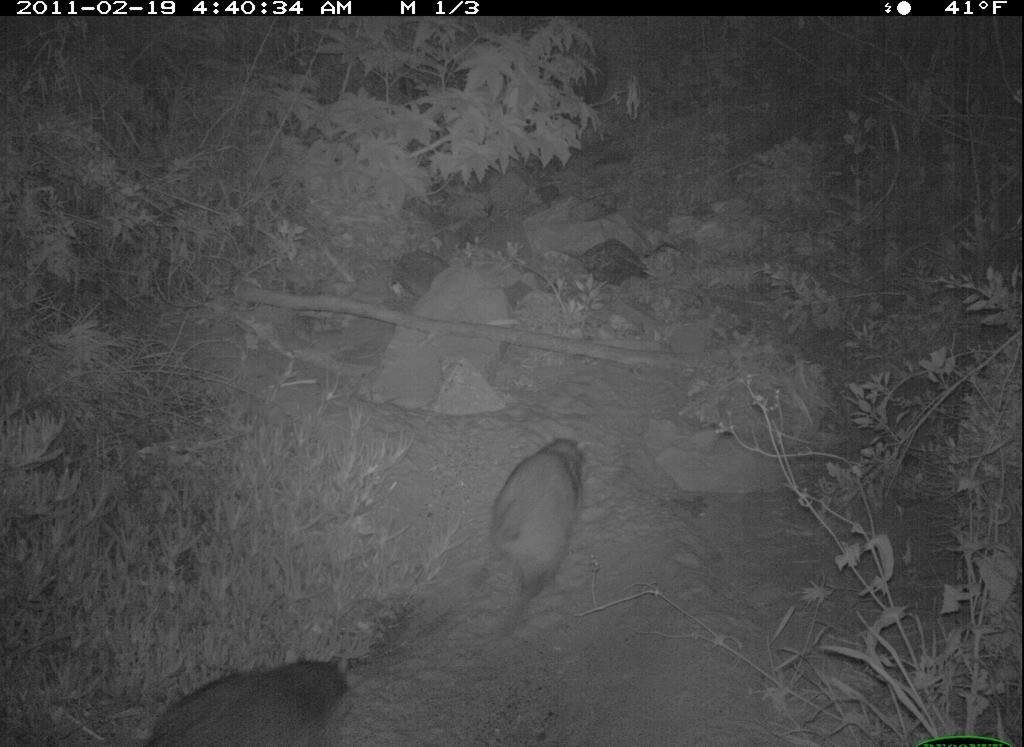raccoon: (465, 427, 598, 644), (140, 643, 368, 747)
